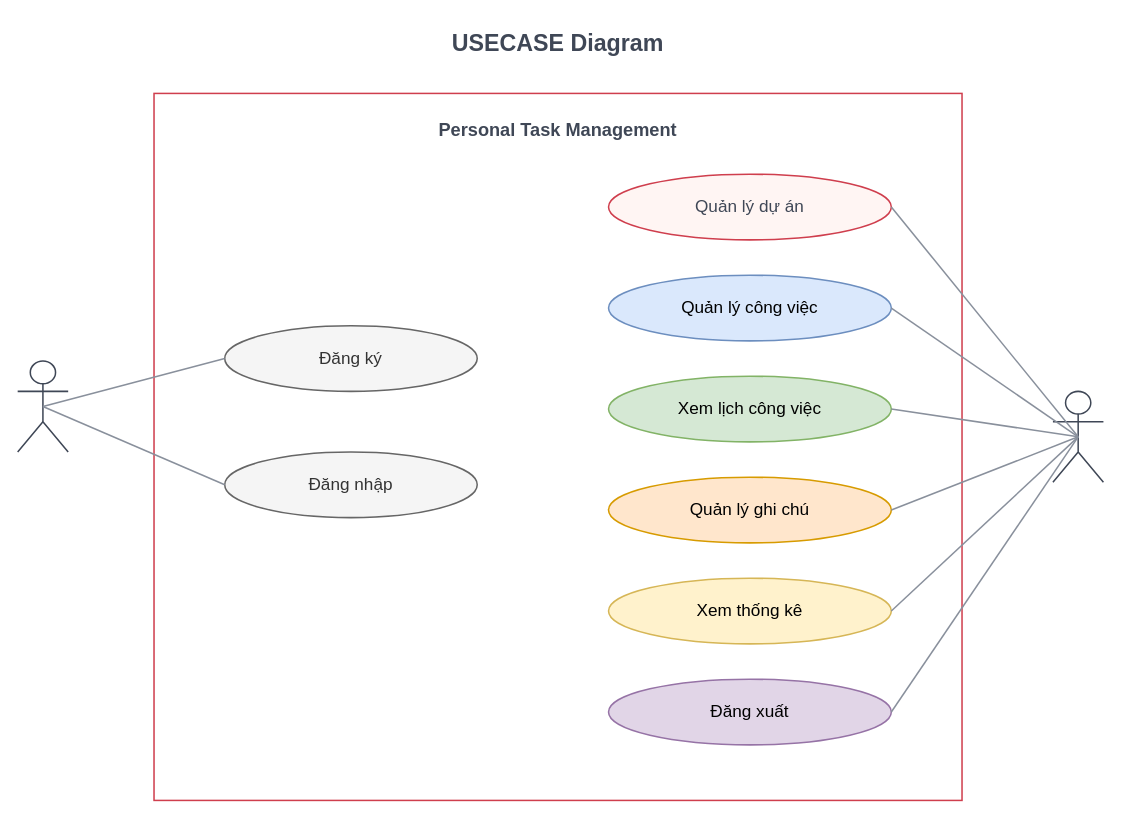
The diagram is 1147 pixels wide and 818 high, and some of its shapes have lost their labels. Each missing label, with the centre of its shape:
Khách: (x=42, y=406)
Người dùng (đã đăng nhập): (x=1078, y=436)
